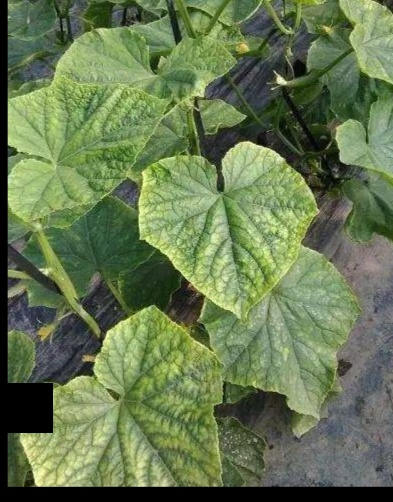cucumber_plant: (11, 63, 303, 304), (30, 306, 219, 486)
